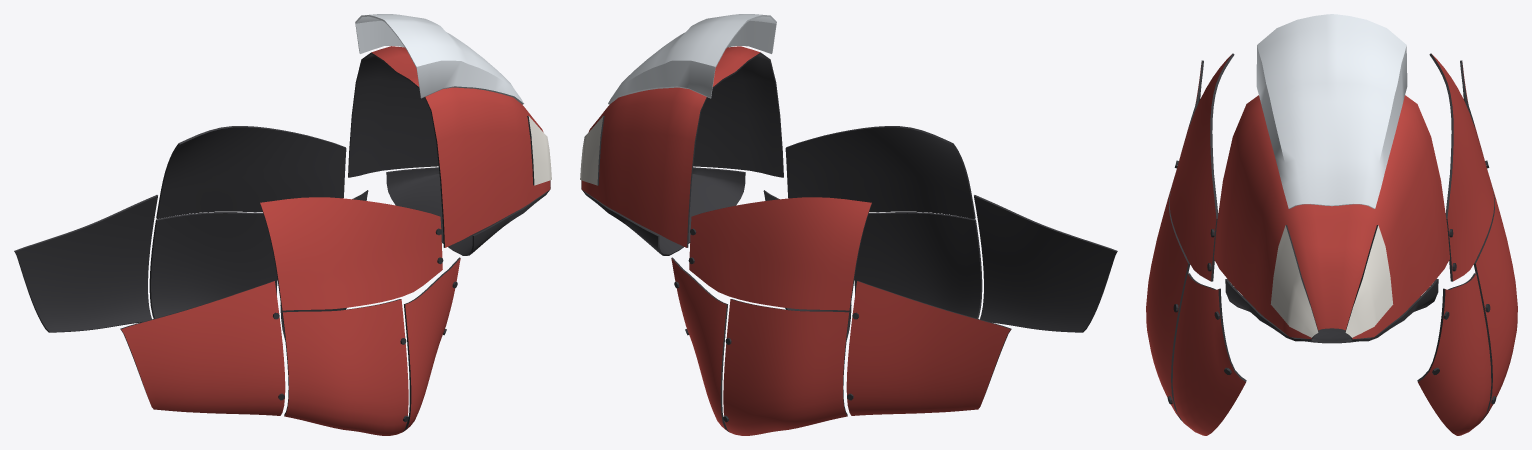
File: touring.glb
3 renders of one model, left to right at view 1: azimuth 30°, elevation 25°; view 2: azimuth 150°, elevation 25°; view 3: azimuth 270°, elevation 25°, orthographic. The views are drawn at different scales.
Visible parts, largest first — view 1: touring; view 2: touring; view 3: touring.
Boxes of the visible parts, box(x1,y1,x2,y2) form: touring: box(14, 14, 551, 435); touring: box(580, 14, 1117, 435); touring: box(1146, 14, 1517, 435).
Size of the model in its own units: 1.13 by 0.8243 by 0.6272.
